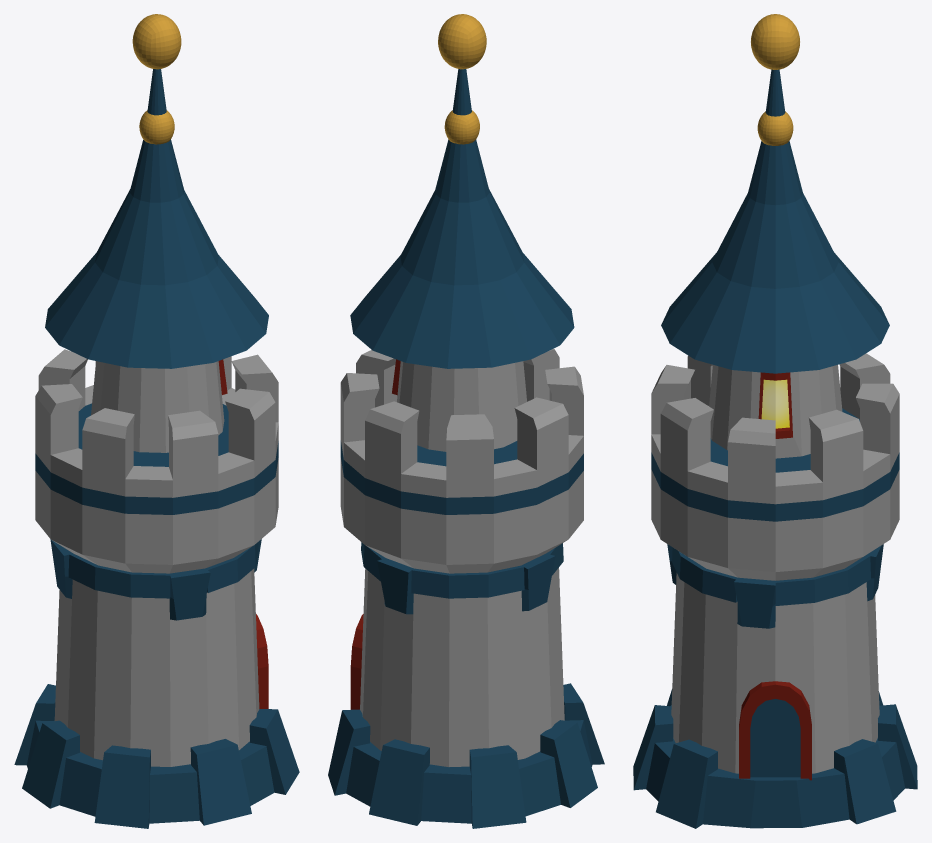
The model's file is tower_v2.fbx.
The picture shows the model from 3 angles, left to right: view 1: azimuth 30°, elevation 25°; view 2: azimuth 150°, elevation 25°; view 3: azimuth 270°, elevation 25°; orthographic projection.
Visible parts, largest first — view 1: tower; view 2: tower; view 3: tower.
Boxes of the visible parts, bbox=[...] form: tower: bbox=[14, 14, 299, 828]; tower: bbox=[328, 14, 604, 828]; tower: bbox=[633, 14, 917, 828].
Size of the model in its own units: 254 by 801 by 271.
